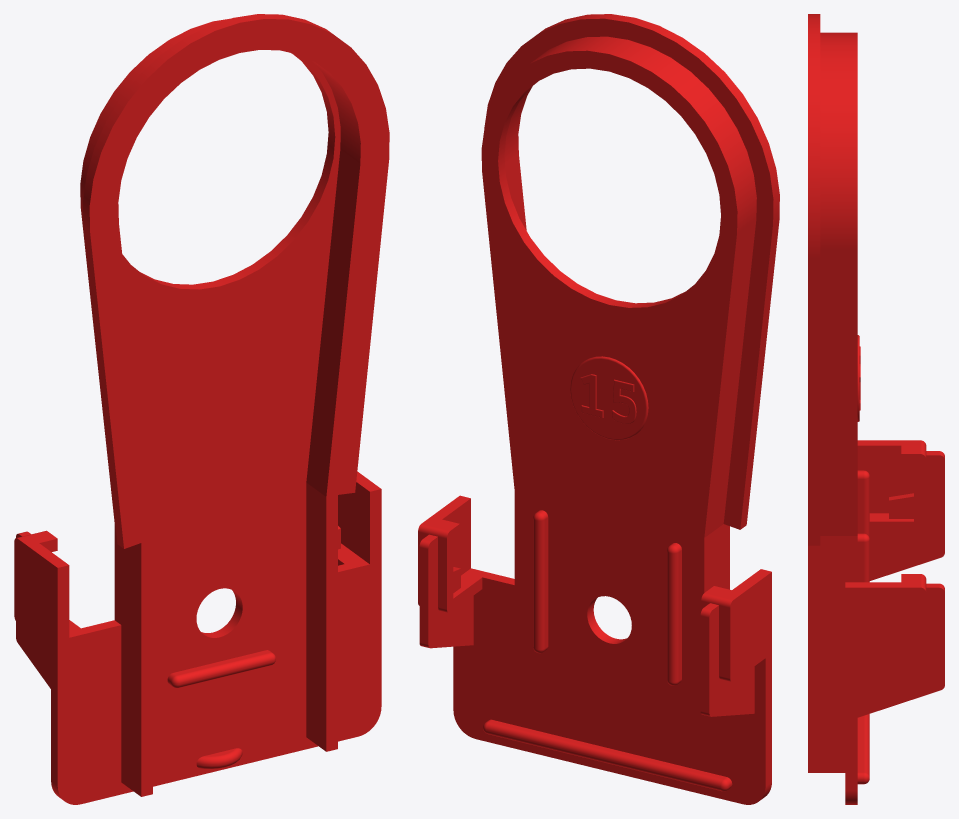
3 renders of one model, left to right at view 1: azimuth 30°, elevation 25°; view 2: azimuth 150°, elevation 25°; view 3: azimuth 270°, elevation 25°, orthographic. The views are drawn at different scales.
Visible parts, largest first — view 1: PART 15; view 2: PART 15; view 3: PART 15.
Boxes of the visible parts, x1,y1,x2,y2 form: PART 15: [14, 14, 389, 804]; PART 15: [418, 14, 779, 804]; PART 15: [808, 14, 944, 804].
Size of the model in its own units: 4.45 by 10 by 1.75.
